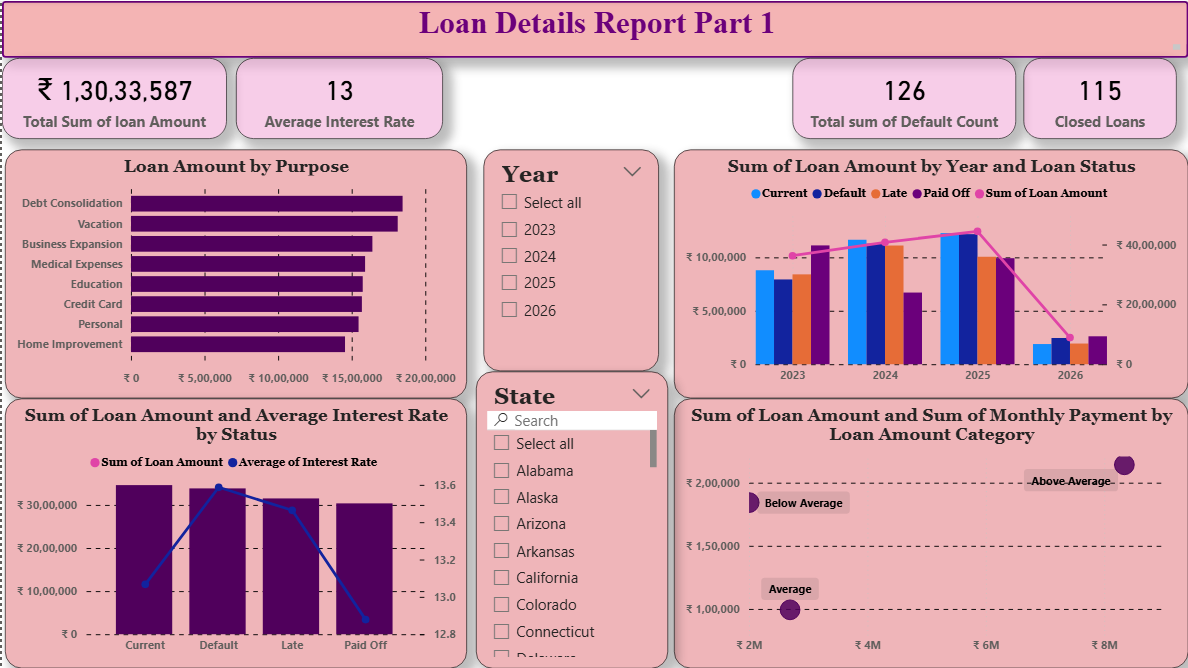

What the dashboard file says about the page in this screenshot:
{"tool":"powerbi","page":{"name":"Report Part 1","canvas":[1280,720],"ordinal":9},"visuals":[{"type":"textbox","title":"Loan Details Report Part 1","box":[0,0,1280.8,61.5],"z":0},{"type":"card","fields":{"Values":["Measure_Table.Total Sum of loan Amount"]},"box":[0,61.5,242.9,87.4],"z":1000},{"type":"card","fields":{"Values":["Measure_Table.Average Interest Rate"]},"box":[252.6,61.5,223.5,87.4],"z":2000},{"type":"card","fields":{"Values":["Measure_Table.Total sum of Default Count"]},"box":[853.3,61.5,241.3,87.4],"z":3000},{"type":"card","fields":{"Values":["Measure_Table.Approved Loans"]},"box":[1102.7,61.5,165.2,87.4],"z":4000},{"type":"clusteredBarChart","title":" Loan Amount by Purpose","fields":{"Category":["Purpose.Purpose"],"Y":["Sum(loan_details.Loan Amount)"]},"box":[3.2,160.3,498.7,268.8],"z":5000},{"type":"lineClusteredColumnComboChart","title":" Sum of Loan Amount by Year and Loan Status","fields":{"Category":["Date.Year"],"Y":["Sum(loan_details.Loan Amount)"],"Series":["Status.Loan Status"],"Y2":["Sum(loan_details.Loan Amount)"]},"box":[725.4,160.3,555.4,268.8],"z":6000},{"type":"lineClusteredColumnComboChart","title":"Sum of Loan Amount and Average Interest Rate by Status","fields":{"Category":["Status.Loan Status"],"Y":["Sum(loan_details.Loan Amount)"],"Y2":["Avg(loan_details.Interest Rate)"]},"box":[3.2,429.1,498.7,291.5],"z":7000},{"type":"slicer","fields":{"Values":["Date.Year"]},"box":[519.8,160.3,189.4,239.6],"z":8000},{"type":"scatterChart","fields":{"X":["Sum(loan_details.Loan Amount)"],"Y":["Sum(loan_details.Monthly Payment)"],"Category":["Category.Loan Amount Category"]},"box":[725.4,429.1,555.4,291.5],"z":9000},{"type":"slicer","fields":{"Values":["State.State"]},"box":[511.7,399.9,207.3,320.6],"z":10000}]}

Visuals, with their boxes in screenshot pixels (x1, y1, x2, y2), scaled from the page's 1280x720 canvas onto the 1188x668 screenshot:
"Loan Details Report Part 1" textbox: <bbox>0, 0, 1187, 57</bbox>
card - Measure_Table.Total Sum of loan Amount: <bbox>0, 57, 225, 138</bbox>
card - Measure_Table.Average Interest Rate: <bbox>234, 57, 442, 138</bbox>
card - Measure_Table.Total sum of Default Count: <bbox>792, 57, 1016, 138</bbox>
card - Measure_Table.Approved Loans: <bbox>1023, 57, 1177, 138</bbox>
" Loan Amount by Purpose" clusteredBarChart: <bbox>3, 149, 466, 398</bbox>
" Sum of Loan Amount by Year and Loan Status" lineClusteredColumnComboChart: <bbox>673, 149, 1187, 398</bbox>
"Sum of Loan Amount and Average Interest Rate by Status" lineClusteredColumnComboChart: <bbox>3, 398, 466, 667</bbox>
slicer - Date.Year: <bbox>482, 149, 658, 371</bbox>
scatterChart - Sum(loan_details.Loan Amount) x Sum(loan_details.Monthly Payment): <bbox>673, 398, 1187, 667</bbox>
slicer - State.State: <bbox>475, 371, 667, 667</bbox>
